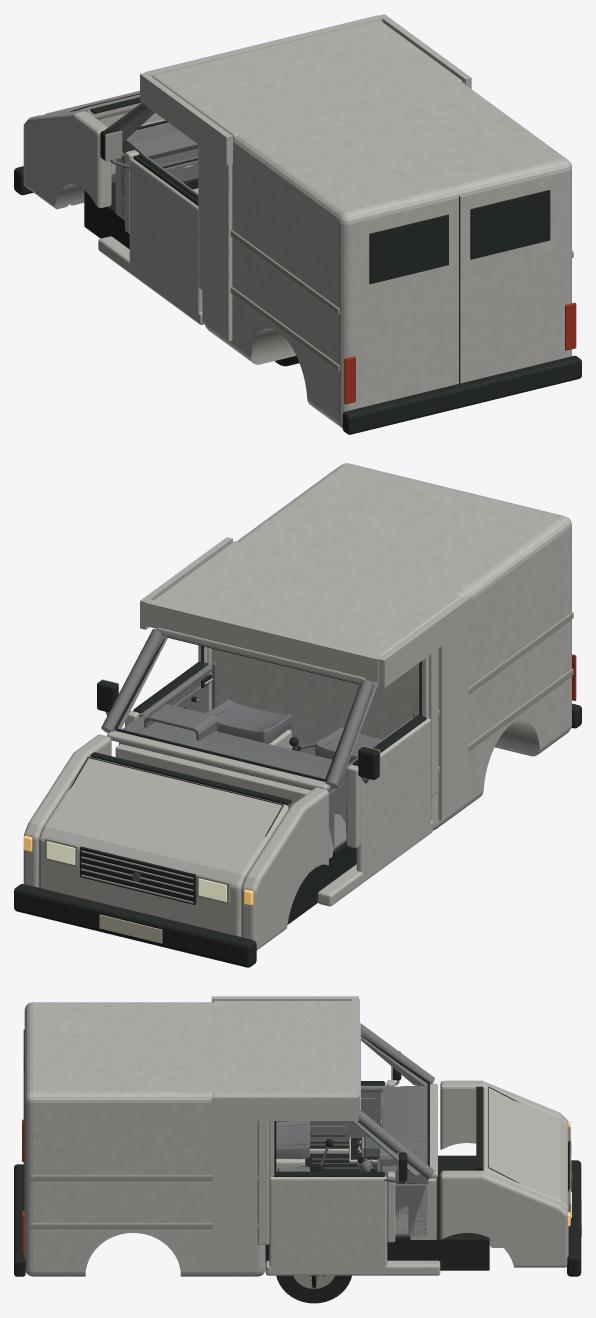
File: source-vehicle-interior.glb
3 renders of one model, top to bottom at view 1: azimuth 30°, elevation 25°; view 2: azimuth 150°, elevation 25°; view 3: azimuth 270°, elevation 25°, orthographic. The views are drawn at different scales.
Visible parts, largest first — view 1: opening_drive_vehicle_body, opening_drive_cabin; view 2: opening_drive_vehicle_body, opening_drive_cabin, opening_drive_cabin_door_r; view 3: opening_drive_vehicle_body, opening_drive_cabin, opening_drive_cabin_door_r, opening_drive_tyre, opening_drive_radio.
Part boxes in pixels (left/top/right/bottom): opening_drive_vehicle_body: left=14, top=80, right=581, bottom=434; opening_drive_cabin: left=100, top=14, right=471, bottom=340; opening_drive_vehicle_body: left=14, top=463, right=581, bottom=967; opening_drive_cabin: left=97, top=537, right=471, bottom=873; opening_drive_cabin_door_r: left=132, top=645, right=213, bottom=717; opening_drive_vehicle_body: left=14, top=1002, right=581, bottom=1276; opening_drive_cabin: left=211, top=996, right=437, bottom=1270; opening_drive_cabin_door_r: left=269, top=1121, right=387, bottom=1268; opening_drive_tyre: left=276, top=1275, right=351, bottom=1303; opening_drive_radio: left=356, top=1137, right=379, bottom=1159.
Bounding box in the file's own units: 2.29 × 2.35 × 4.82.
Materials: 14 (4 with a texture image).
